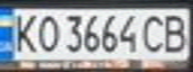3: (60, 11, 84, 54)
4: (118, 11, 142, 54)
6: (81, 11, 103, 54), (100, 11, 121, 54)
B: (157, 11, 193, 54)
C: (139, 11, 172, 54)
K: (6, 10, 42, 54)
O: (33, 11, 60, 54)
